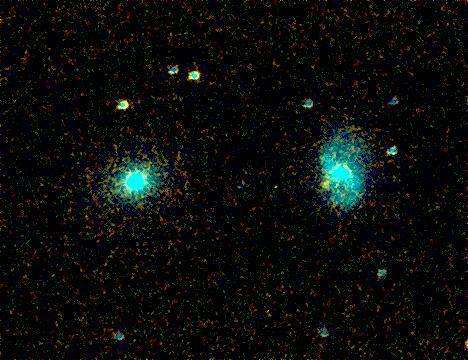star: (310, 171, 340, 201)
